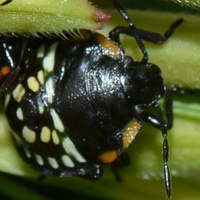insect: (126, 9, 199, 87), (0, 0, 127, 36), (168, 95, 199, 199)
